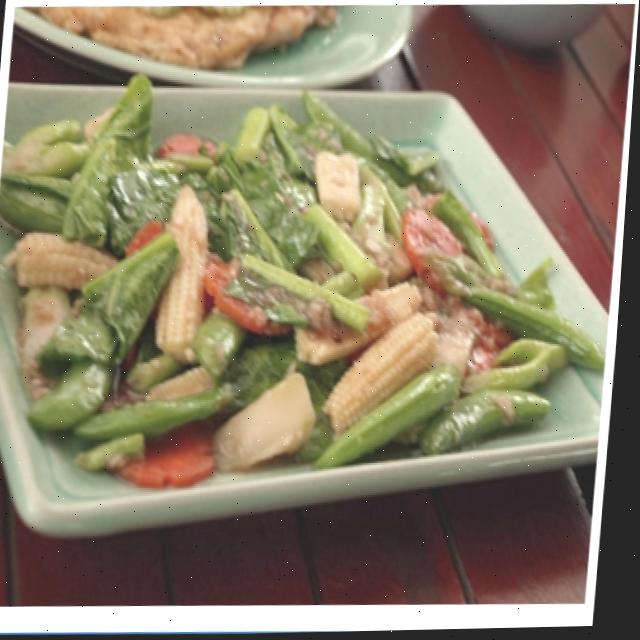蔬菜料理: (0, 14, 616, 577)
